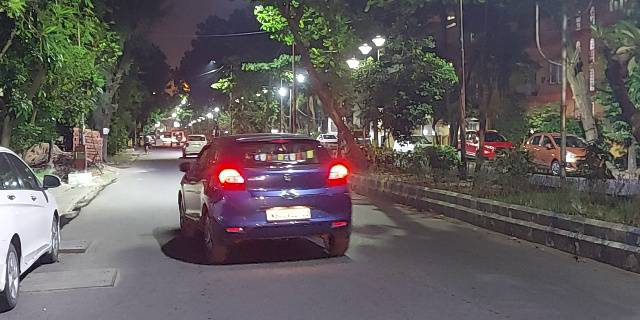Car: (178, 132, 351, 263)
